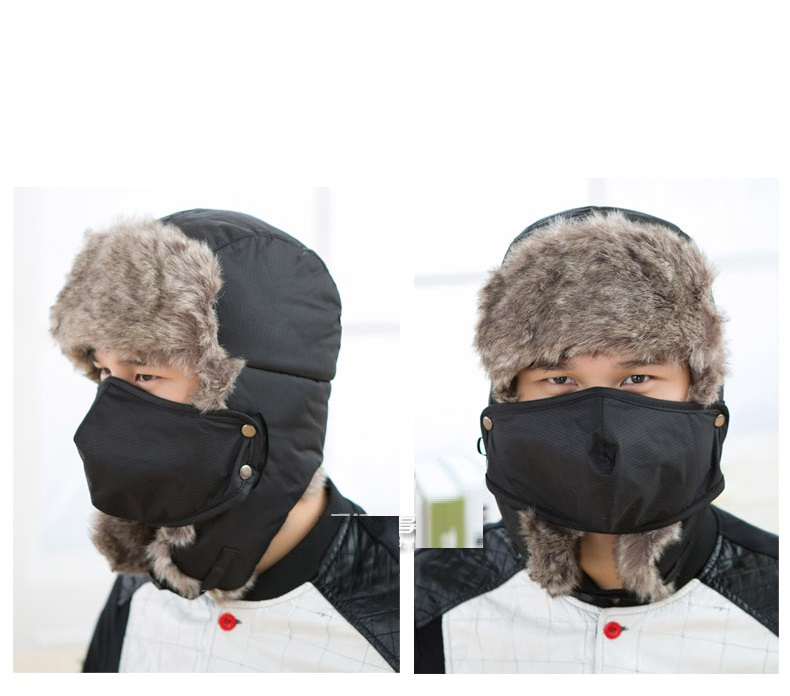face_mask: (510, 312, 696, 537), (74, 332, 220, 523)
